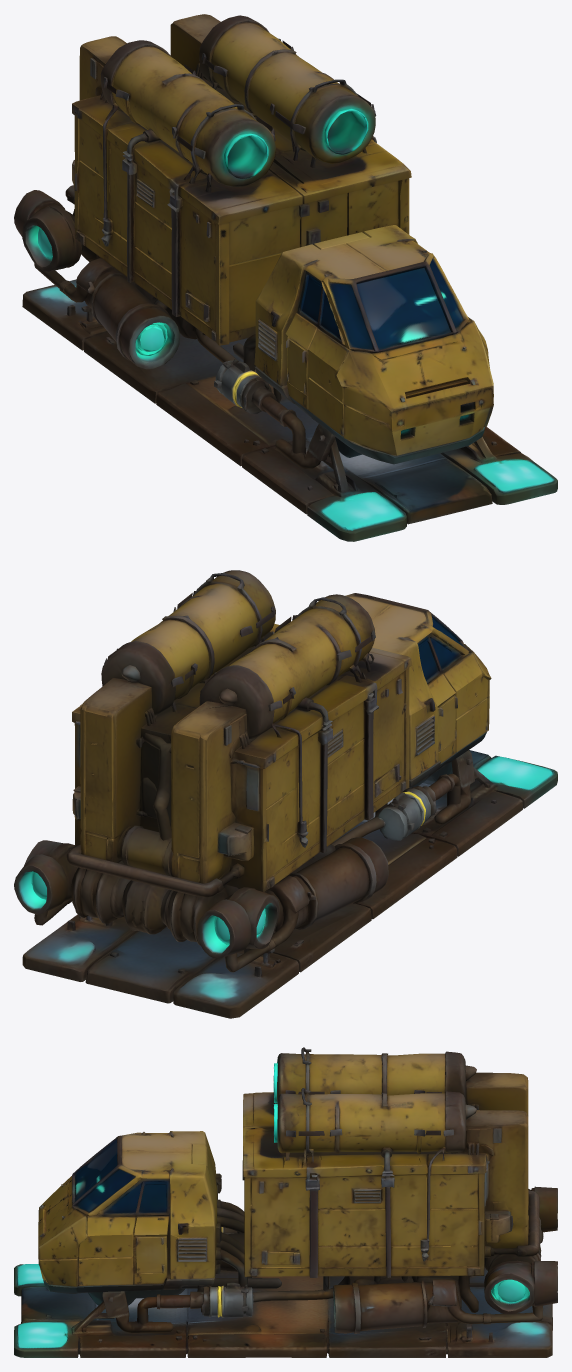
File: hauler628_sled2.glb
3 renders of one model, top to bottom at view 1: azimuth 30°, elevation 25°; view 2: azimuth 150°, elevation 25°; view 3: azimuth 270°, elevation 25°, orthographic. The views are drawn at different scales.
Visible parts, largest first — view 1: model; view 2: model; view 3: model.
Boxes of the visible parts, left/top/right/bottom form: model: left=14, top=14, right=557, bottom=541; model: left=14, top=570, right=557, bottom=1018; model: left=14, top=1047, right=557, bottom=1357.
Bounding box in the file's own units: 0.8584 × 0.9352 × 1.9.
1 material, 1 textured.
